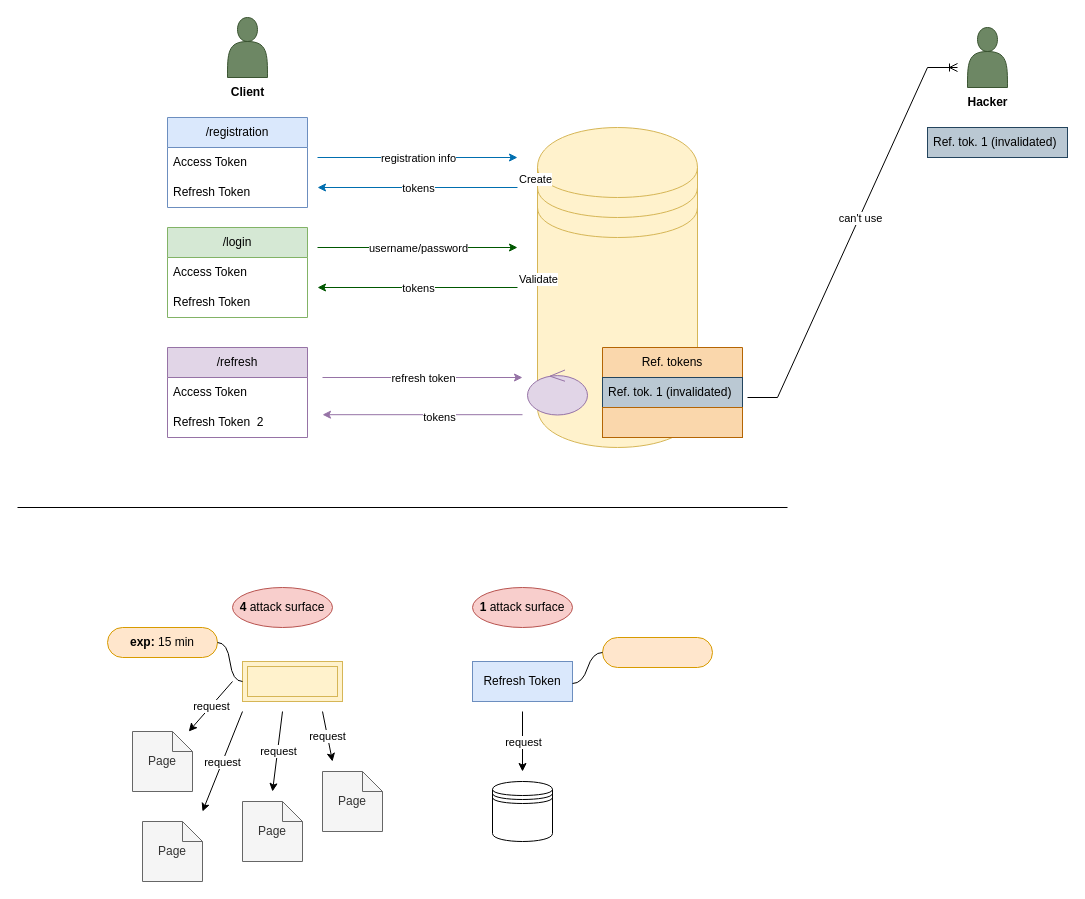
Image size: 1085x899. Some labels were removed from this diagram. The centre of each missing label's shape, as x and y in pixels:
"Acess Token" belongs at (292,681).
"exp: 1 week" belongs at (657,652).
"Ref. tok. 2" belongs at (672,422).
"refresh token rotation" belongs at (557,392).
"server" belongs at (522,811).
